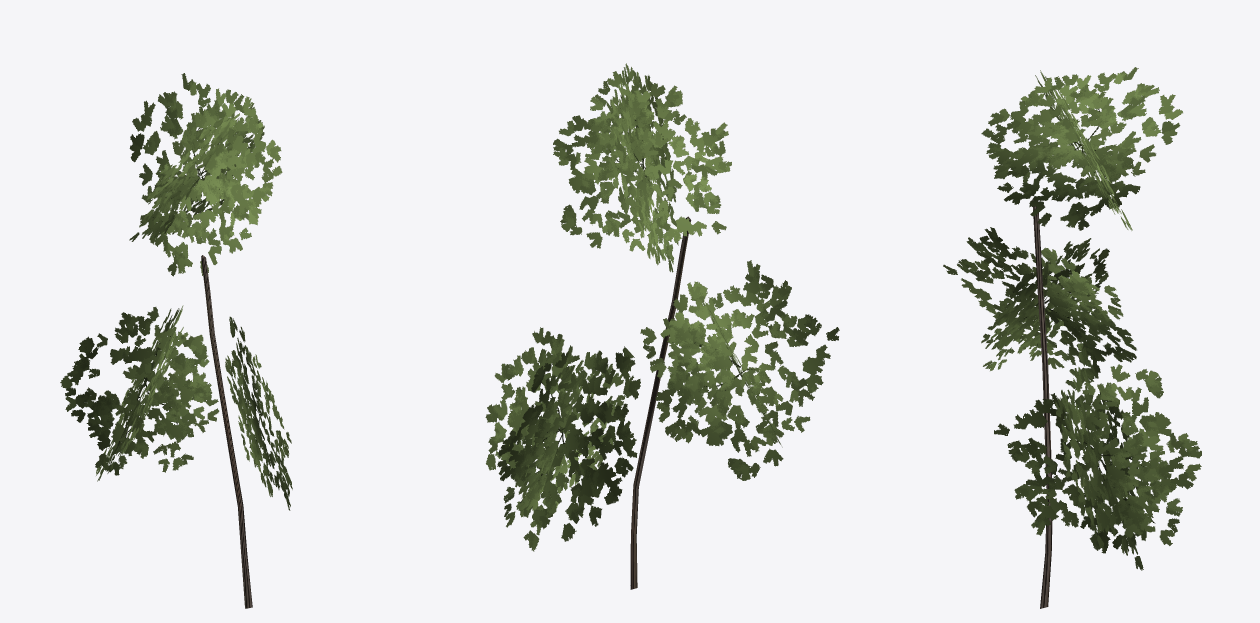
The model's file is seedling-a.lod1.glb.
3 renders of one model, left to right at view 1: azimuth 30°, elevation 25°; view 2: azimuth 150°, elevation 25°; view 3: azimuth 270°, elevation 25°, orthographic. The views are drawn at different scales.
Parts seen in each view (by area): view 1: foliage, bark; view 2: foliage, bark; view 3: foliage, bark.
Part boxes in pixels (x1=…): foliage: x1=60, y1=73, x2=292, y2=510; bark: x1=201, y1=255, x2=252, y2=608; foliage: x1=485, y1=63, x2=839, y2=551; bark: x1=630, y1=216, x2=691, y2=589; foliage: x1=943, y1=67, x2=1201, y2=570; bark: x1=1032, y1=199, x2=1052, y2=608.
Size of the model in its own units: 0.2358 by 0.35 by 0.1753.
Materials: 2 (2 with a texture image).
